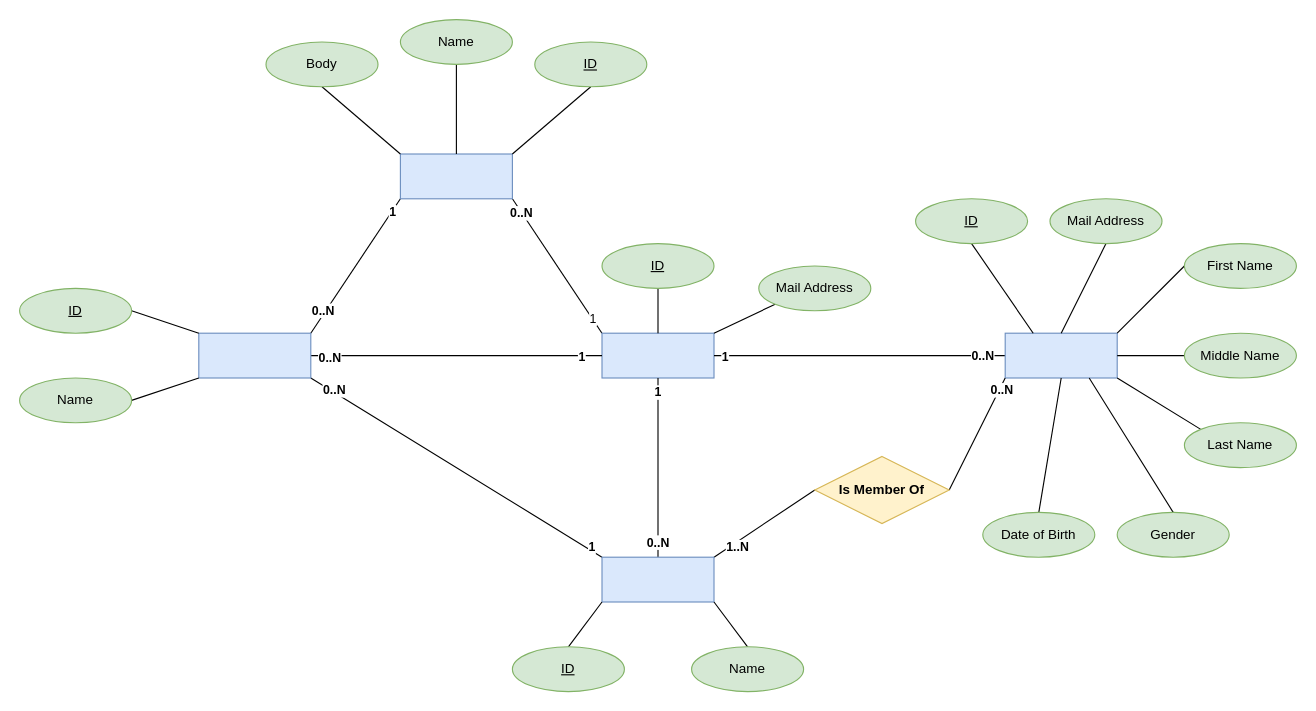
The diagram is 1316 pixels wide and 711 high, and some of its shapes have lost their labels. The shapes that lost their labels are listed below. From the top down, each one's centre as x and y in pixels, then its label:
At [455,176]: "Mail Template".
At [254,355]: "Campaign".
At [657,355]: "User".
At [1060,355]: "Contact".
At [657,579]: "Contact Group".
